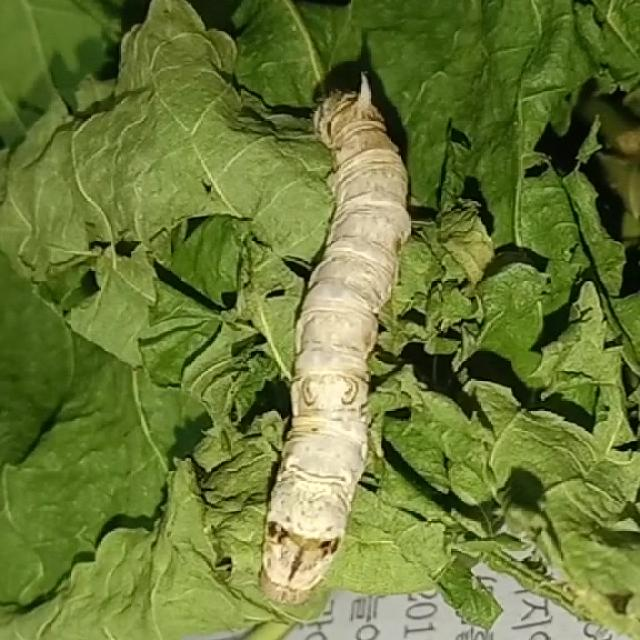Grasserie: (229, 24, 413, 637)
